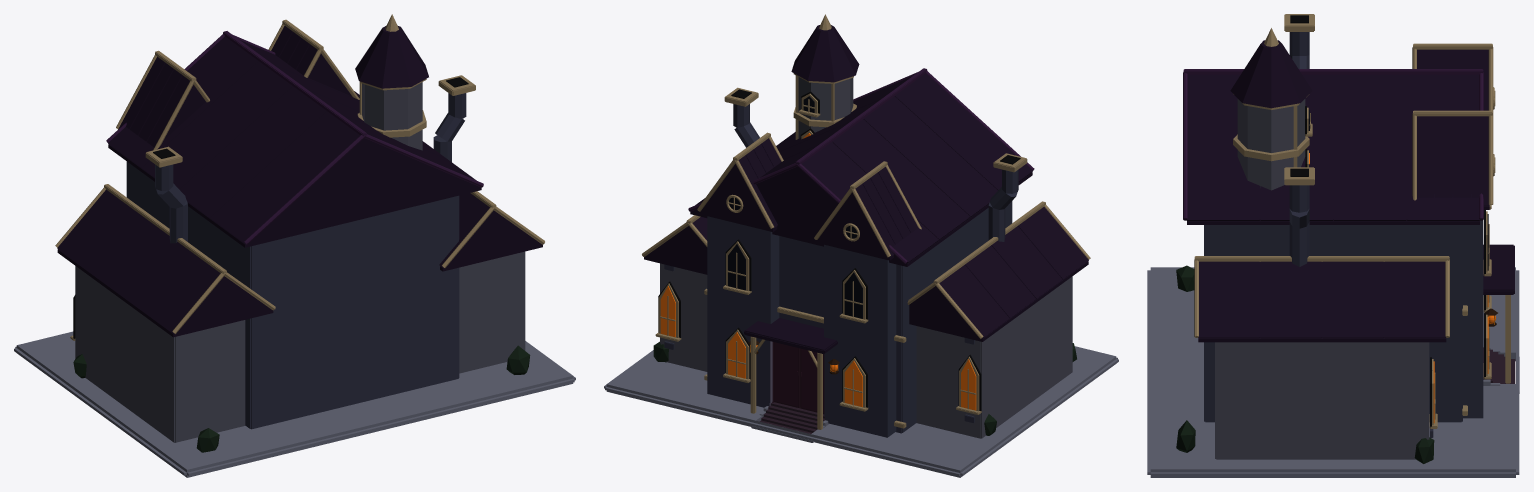
The model's file is haunted-manor-visual.obj.
The picture shows the model from 3 angles, left to right: view 1: azimuth 30°, elevation 25°; view 2: azimuth 150°, elevation 25°; view 3: azimuth 270°, elevation 25°; orthographic projection. The views are drawn at different scales.
Parts seen in each view (by area): view 1: ManorShell, Central_steep_roof, Foundation_01, Wing_roof14.8, AtticLookout, Front_bay_roof7, Wing_roof-14.8, CrookedChimneys, Front_bay_roof-7, GroundDetails; view 2: ManorShell, Central_steep_roof, BayWindows, Foundation_01, Wing_roof14.8, GabledBays_01, Front_bay_roof7, AtticLookout, Front_bay_roof-7, WallDetails, Porch, CrookedChimneys (+4 smaller); view 3: ManorShell, Central_steep_roof, Foundation_01, Wing_roof-14.8, AtticLookout, Front_bay_roof-7, GabledBays_01, CrookedChimneys, Front_bay_roof7, Porch, GroundDetails, BayWindows (+1 smaller).
Boxes of the visible parts, x1,y1,x2,y2 form: ManorShell: (75, 164, 525, 442); Central_steep_roof: (106, 31, 483, 247); Foundation_01: (14, 331, 575, 477); Wing_roof14.8: (55, 184, 275, 337); AtticLookout: (355, 14, 428, 150); Front_bay_roof7: (116, 50, 209, 150); Wing_roof-14.8: (439, 191, 544, 271); CrookedChimneys: (145, 75, 475, 243); Front_bay_roof-7: (268, 19, 359, 99); GroundDetails: (73, 345, 530, 452); ManorShell: (660, 201, 1072, 438); Central_steep_roof: (688, 68, 1034, 266); BayWindows: (723, 194, 896, 437); Foundation_01: (604, 346, 1118, 477); Wing_roof14.8: (907, 201, 1090, 341); GabledBays_01: (707, 216, 779, 407); Front_bay_roof7: (814, 161, 921, 260); AtticLookout: (791, 14, 859, 139); Front_bay_roof-7: (697, 132, 783, 231); WallDetails: (655, 264, 981, 428); Porch: (744, 318, 837, 429); CrookedChimneys: (724, 87, 1027, 241); ManorShell: (1204, 225, 1462, 459); Central_steep_roof: (1183, 69, 1483, 224); Foundation_01: (1147, 267, 1519, 477); Wing_roof-14.8: (1194, 256, 1449, 342); AtticLookout: (1230, 28, 1312, 190); Front_bay_roof-7: (1412, 110, 1493, 209); GabledBays_01: (1463, 220, 1483, 418); CrookedChimneys: (1284, 14, 1314, 266); Front_bay_roof7: (1412, 43, 1493, 113); Porch: (1483, 244, 1514, 383); GroundDetails: (1176, 265, 1434, 463); BayWindows: (1483, 87, 1495, 379).
Size of the model in its own units: 58.91 by 51.65 by 45.22.
